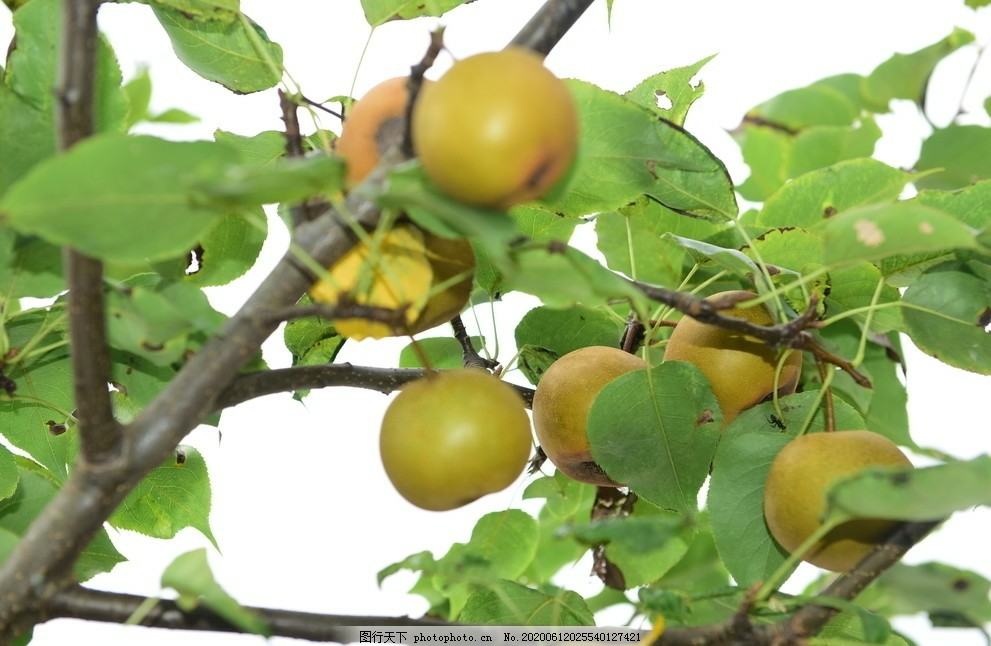pear: (419, 48, 582, 208), (763, 430, 919, 574), (378, 369, 531, 510), (663, 292, 800, 423), (533, 347, 651, 484), (337, 75, 453, 200)
